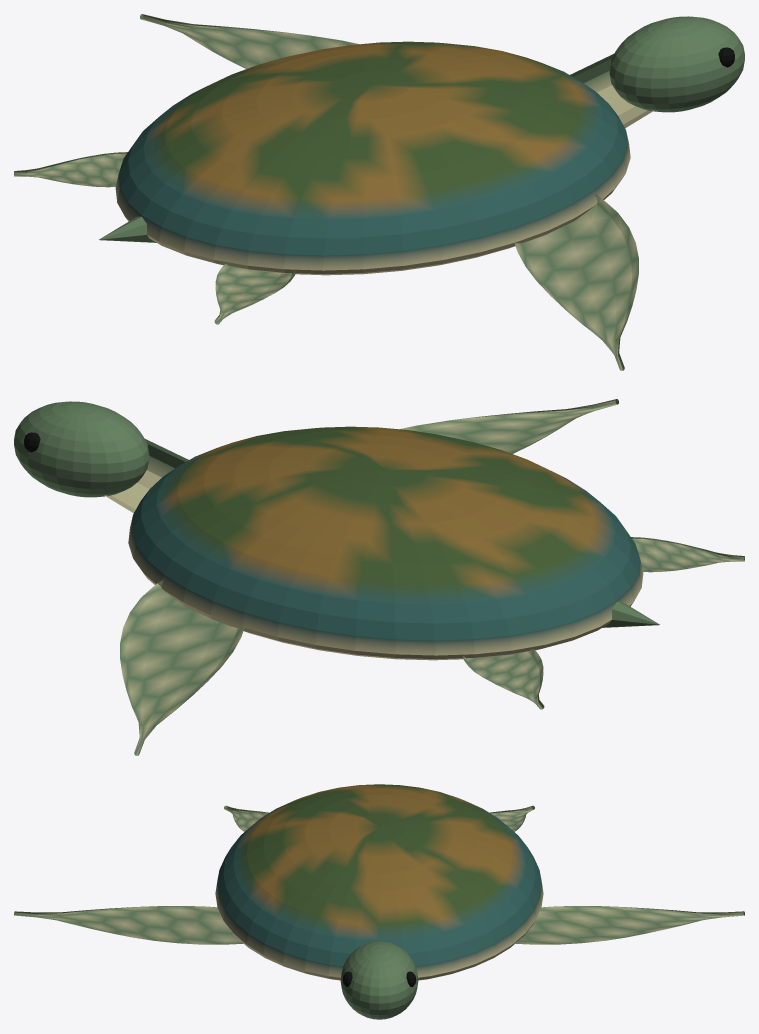
The model's file is turtle.glb.
3 views of the same model, one above another, from view 1: azimuth 30°, elevation 25°; view 2: azimuth 150°, elevation 25°; view 3: azimuth 270°, elevation 25° (orthographic). The views are drawn at different scales.
Parts seen in each view (by area): view 1: Turtle; view 2: Turtle; view 3: Turtle.
Boxes of the visible parts, bbox=[...] form: Turtle: bbox=[14, 14, 744, 370]; Turtle: bbox=[14, 399, 744, 755]; Turtle: bbox=[14, 784, 744, 1019].
Size of the model in its own units: 2.74 by 0.486 by 3.56.
